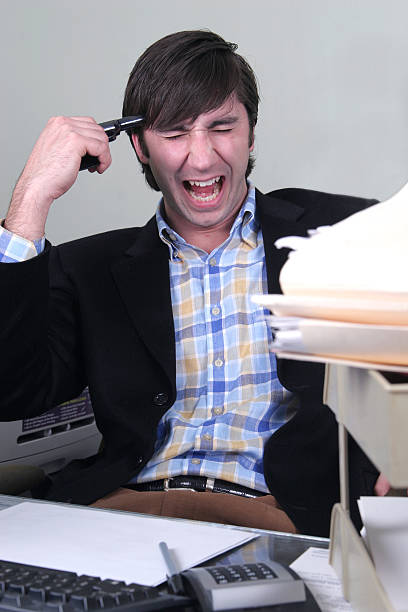gun: (76, 113, 149, 171)
